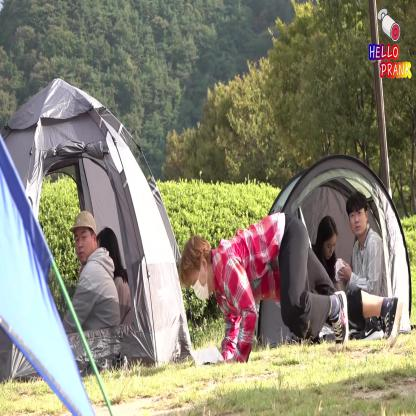Fall_Down: (181, 211, 404, 374)
